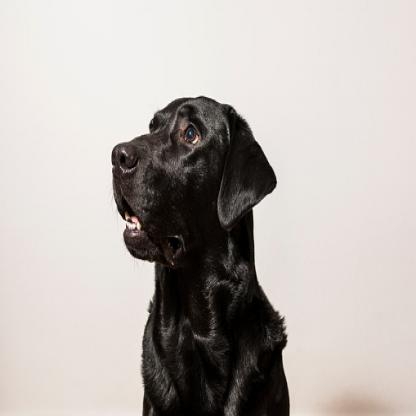dog: (110, 94, 292, 416)
